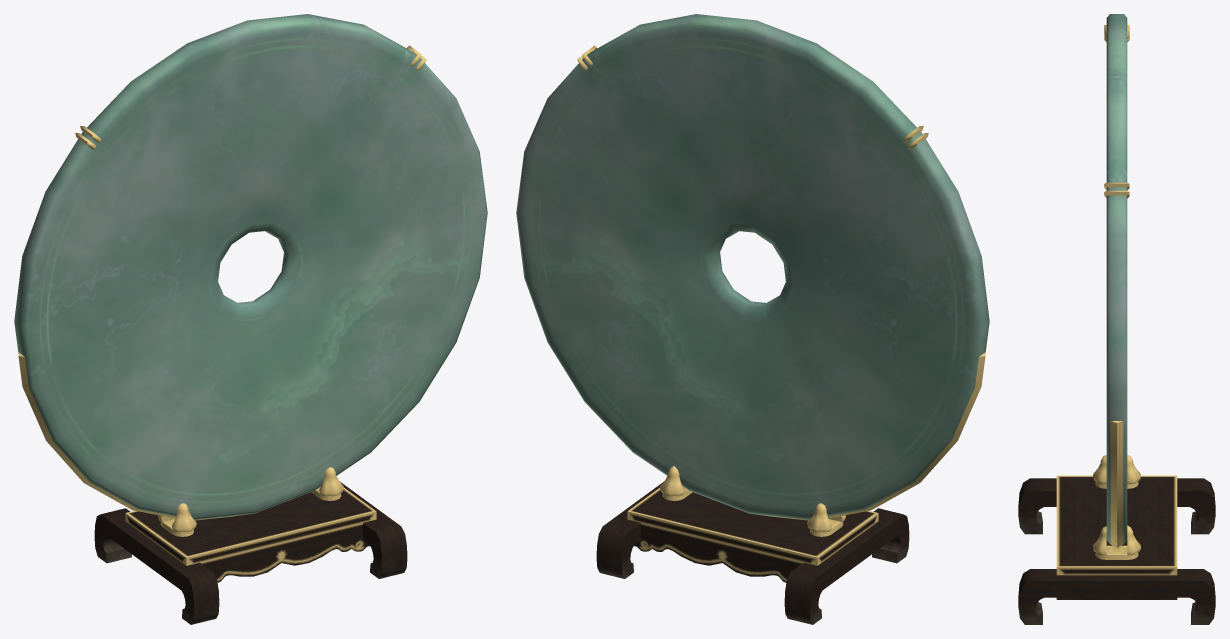
The picture shows the model from 3 angles, left to right: view 1: azimuth 30°, elevation 25°; view 2: azimuth 150°, elevation 25°; view 3: azimuth 270°, elevation 25°; orthographic projection.
Visible parts, largest first — view 1: mt_dj_yu_01; view 2: mt_dj_yu_01; view 3: mt_dj_yu_01.
Boxes of the visible parts, x1,y1,x2,y2 form: mt_dj_yu_01: [14, 14, 487, 624]; mt_dj_yu_01: [516, 14, 989, 624]; mt_dj_yu_01: [1018, 14, 1215, 624].
Bounding box in the file's own units: 46.88 × 17.35 × 52.05.
